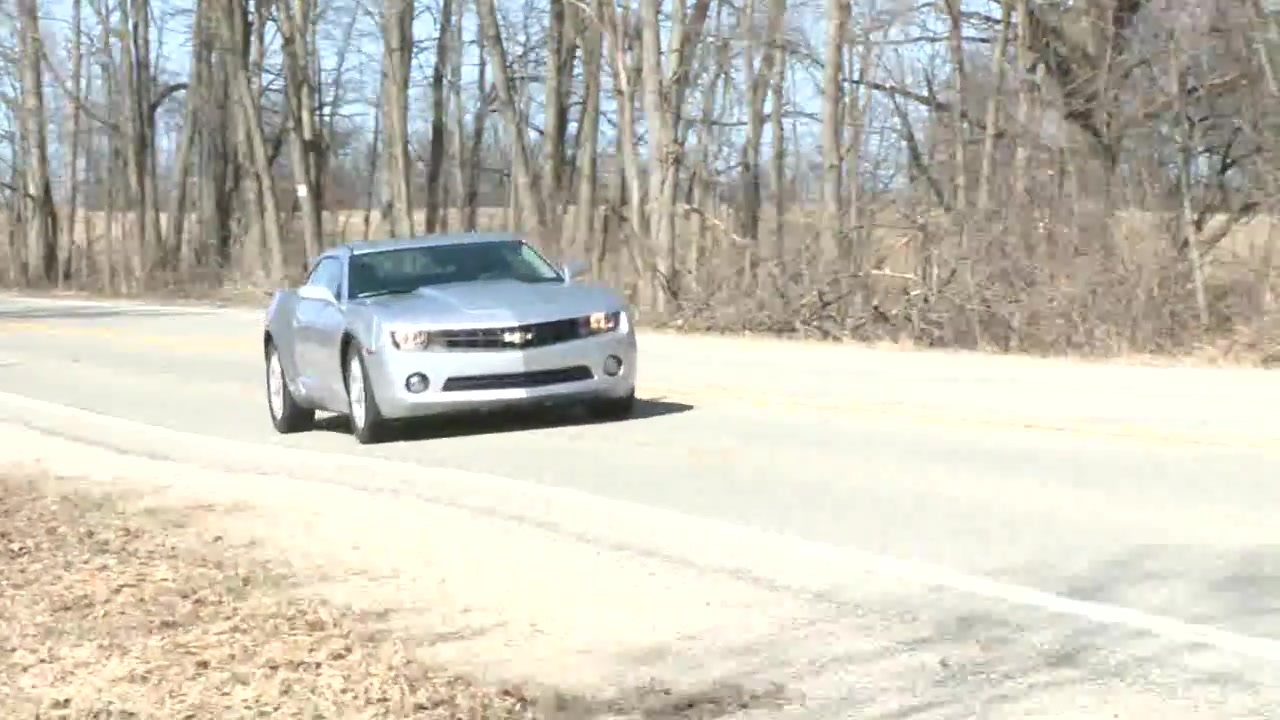car: (257, 234, 643, 444)
